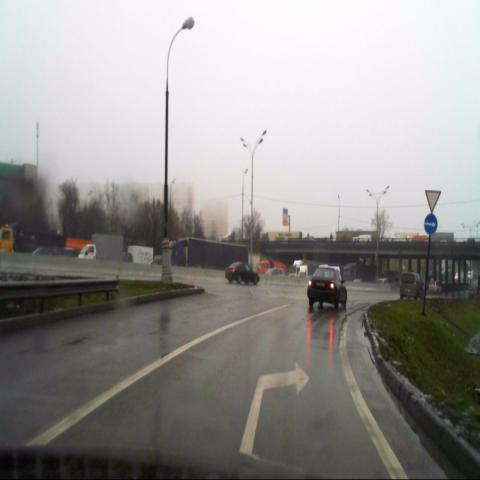4_1_2_1: (424, 214, 437, 234)
